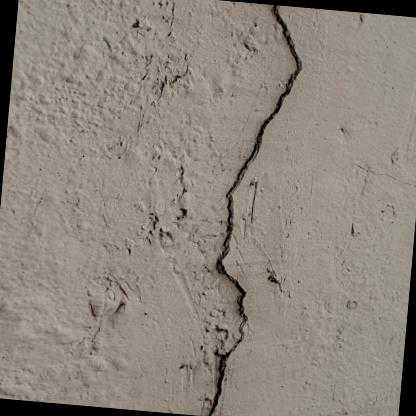crack: (206, 17, 299, 416), (272, 5, 278, 15)
